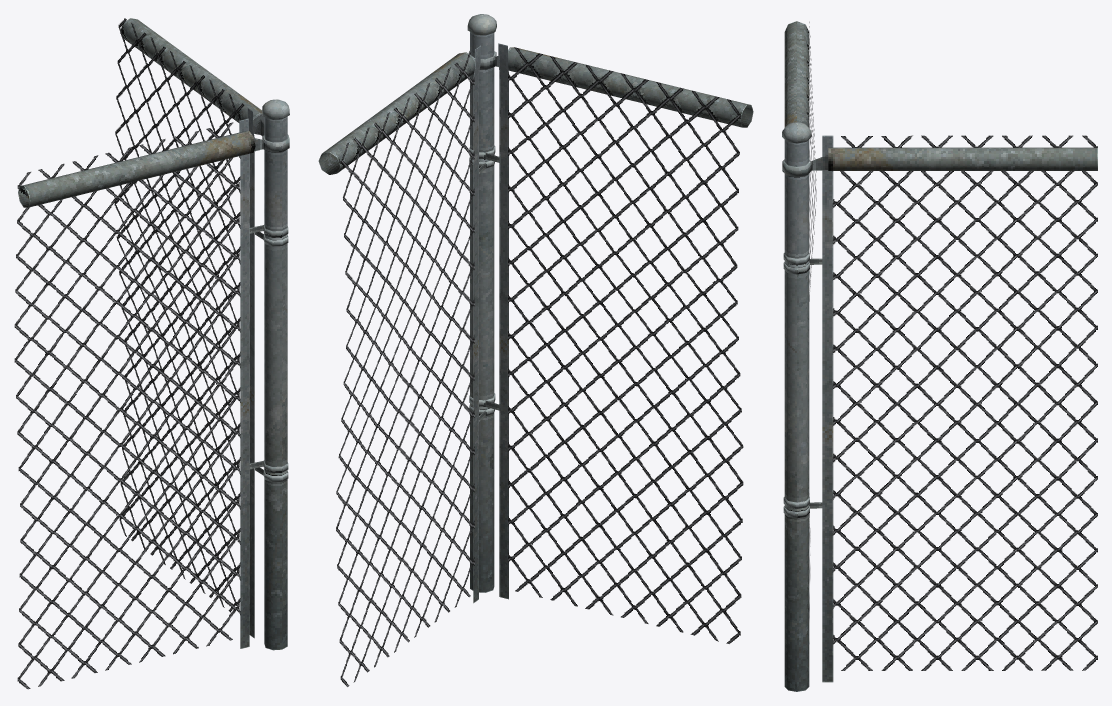
The model's file is chain_link_fence_int_corner.glb.
3 renders of one model, left to right at view 1: azimuth 30°, elevation 25°; view 2: azimuth 150°, elevation 25°; view 3: azimuth 270°, elevation 25°, orthographic. The views are drawn at different scales.
Visible parts, largest first — view 1: chain_link_fence_int_corner; view 2: chain_link_fence_int_corner; view 3: chain_link_fence_int_corner.
Part boxes in pixels (x1,y1,x2,y2): chain_link_fence_int_corner: [14, 18, 289, 689]; chain_link_fence_int_corner: [318, 14, 753, 686]; chain_link_fence_int_corner: [782, 21, 1097, 691].
Size of the model in its own units: 1.05 by 2.06 by 1.05.
2 materials, 2 textured.
